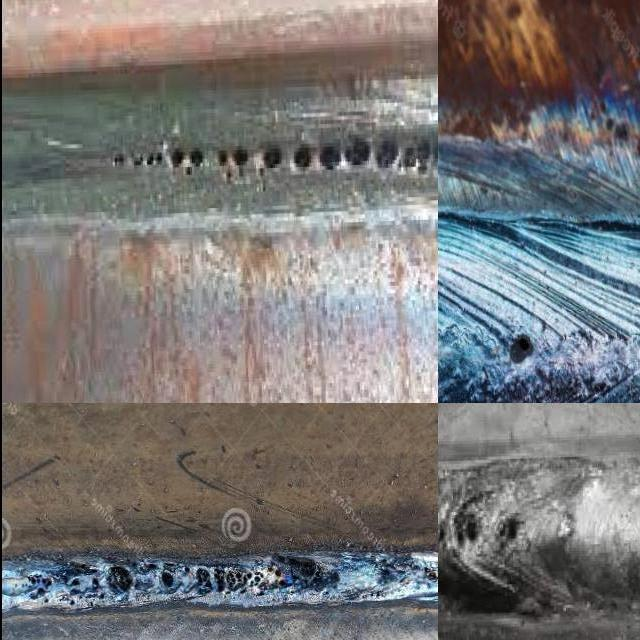defect: (214, 124, 436, 179), (145, 551, 325, 601), (7, 557, 106, 609), (104, 144, 208, 180), (436, 507, 484, 552), (489, 504, 527, 552), (501, 329, 539, 371), (104, 563, 135, 595), (420, 560, 436, 585)
